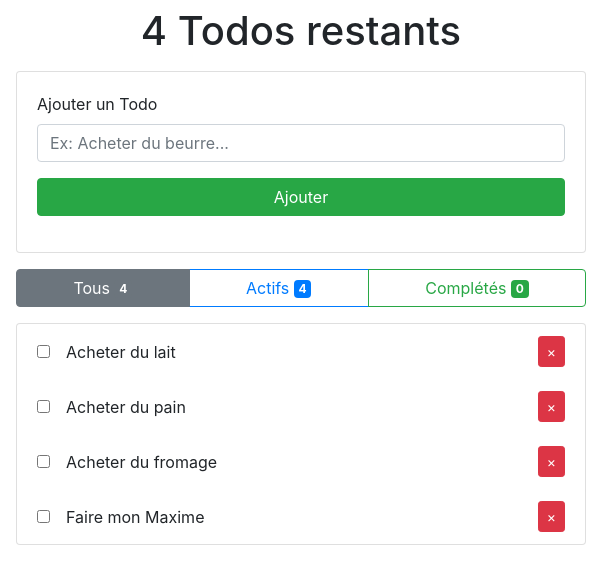
Test case: Suppression d'un todo › un todo est retiré de la liste après clic sur ×
Click the button named "supprimer \"acheter du lait\"" at (551, 352), box [538,336,565,367]
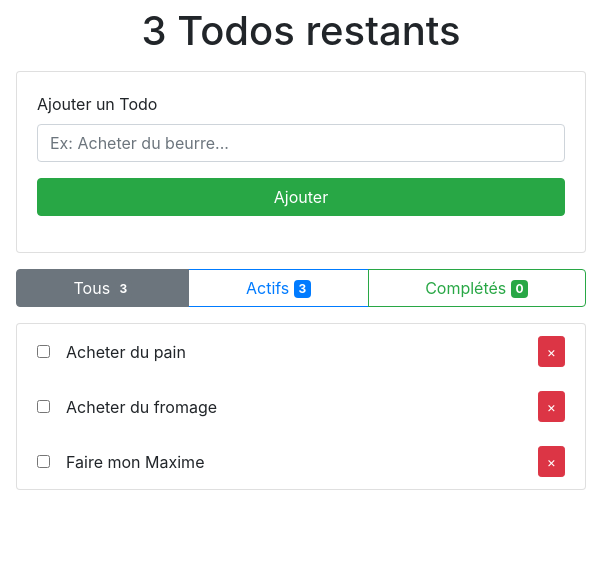
Expected: the text "Acheter du lait" is gone
